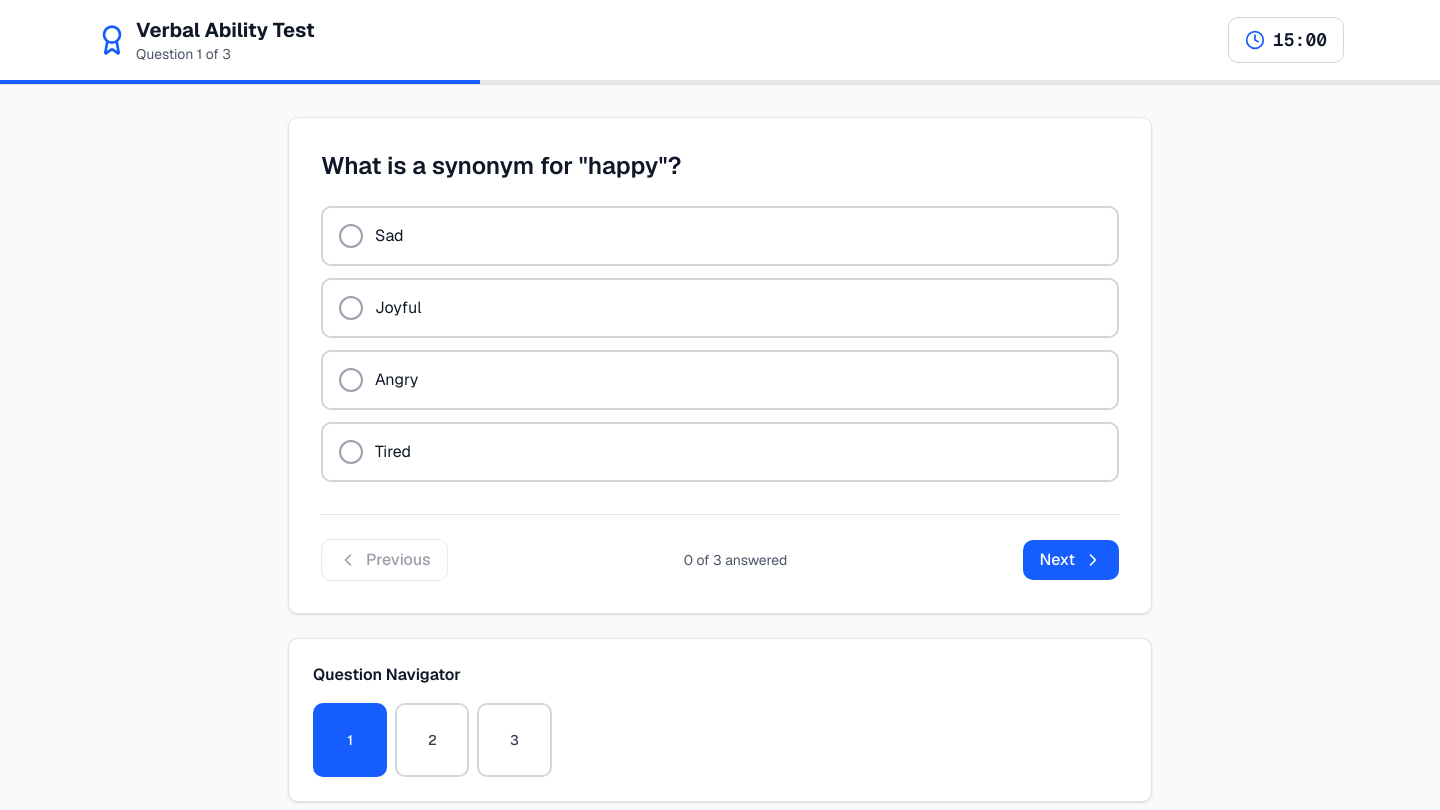
Test case: TestTaker Component › navigates to previous question when Previous button is clicked
Go to second question
Click the button "Next": [1071, 560] box [1023,540,1119,580]
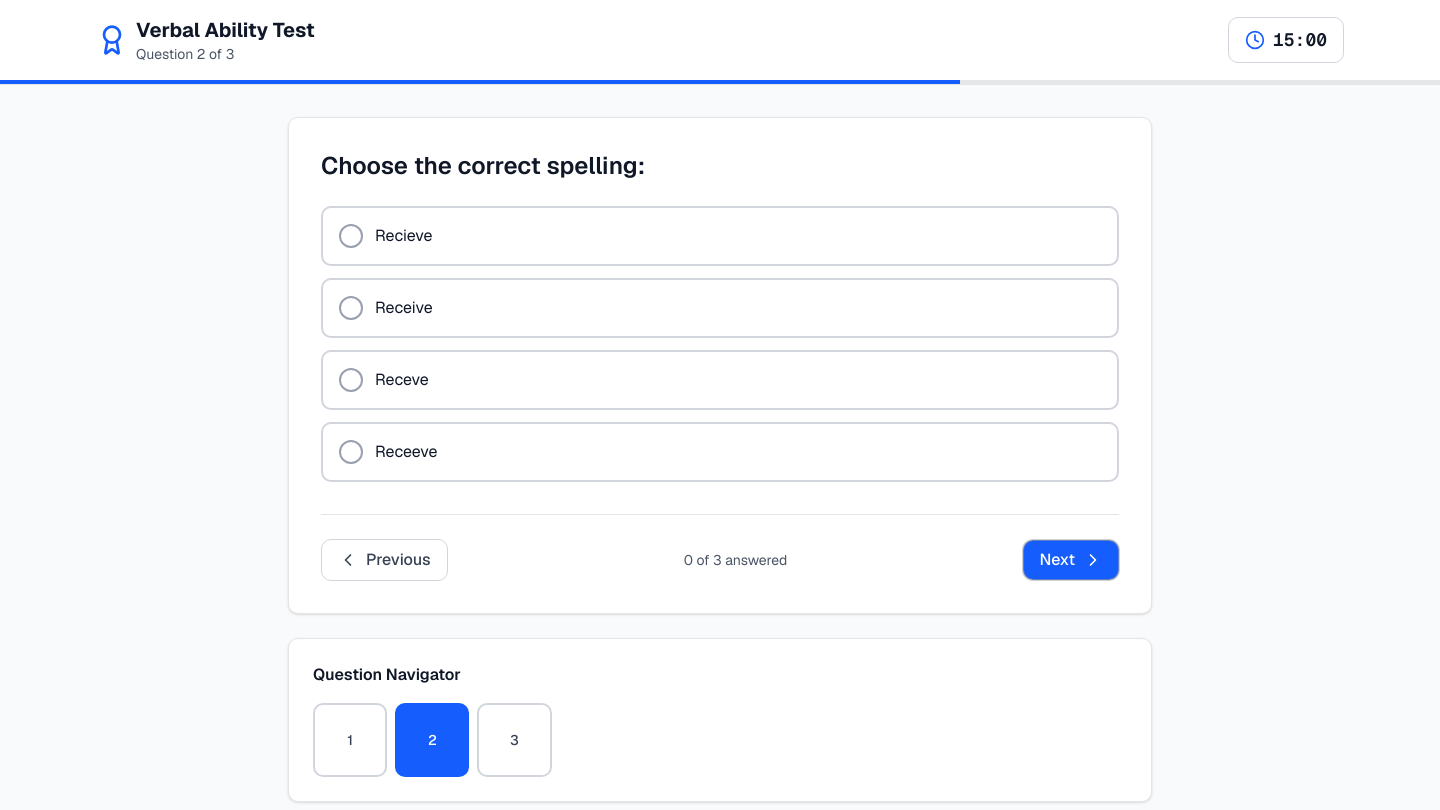
Go back to first question
Click the button "Previous": [384, 560] box [321,539,448,581]
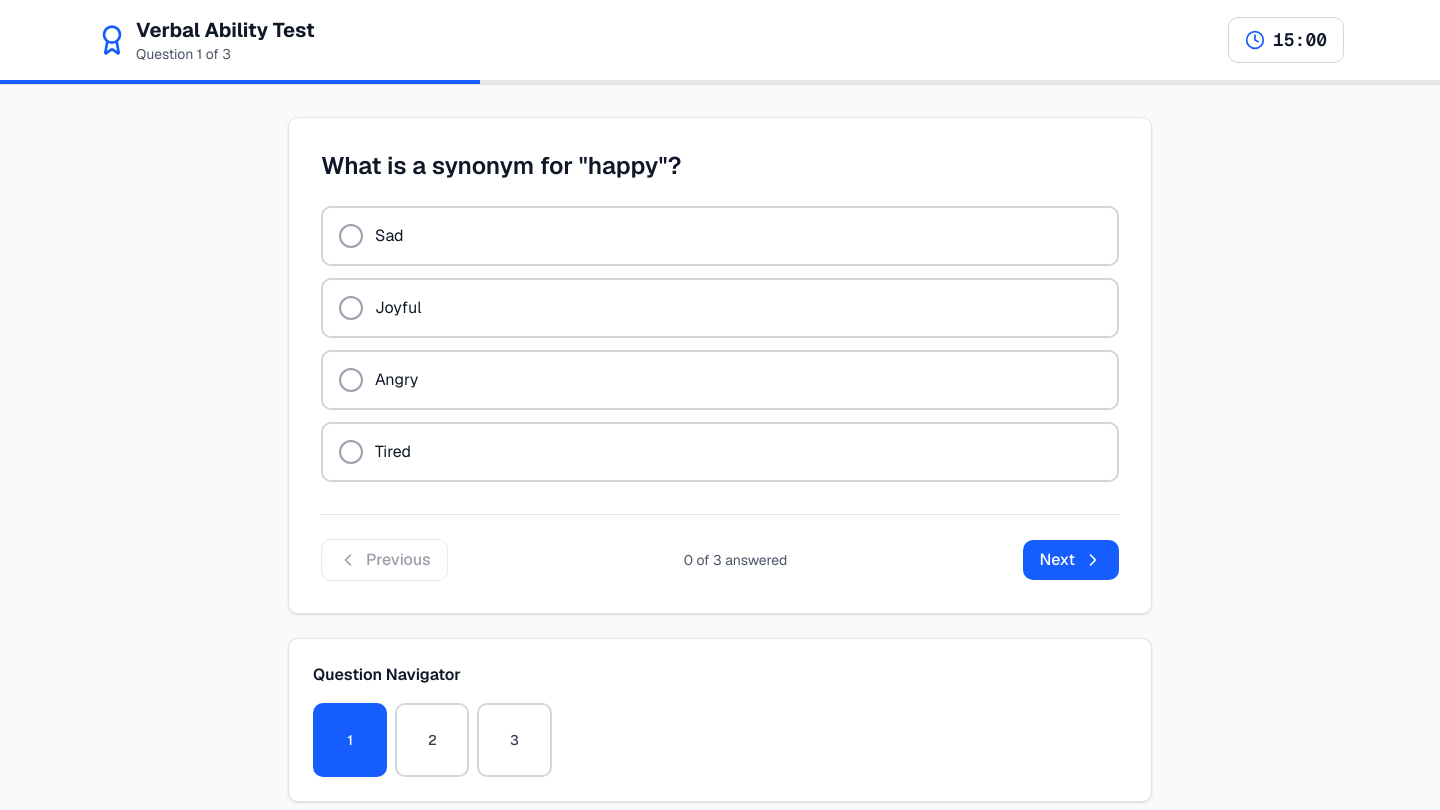
Expected: the heading "What is a synonym for \"happy\"?" is shown, [321,150,681,181]
Expected: the text "Question 1 of 3" is shown, [136,45,231,63]
